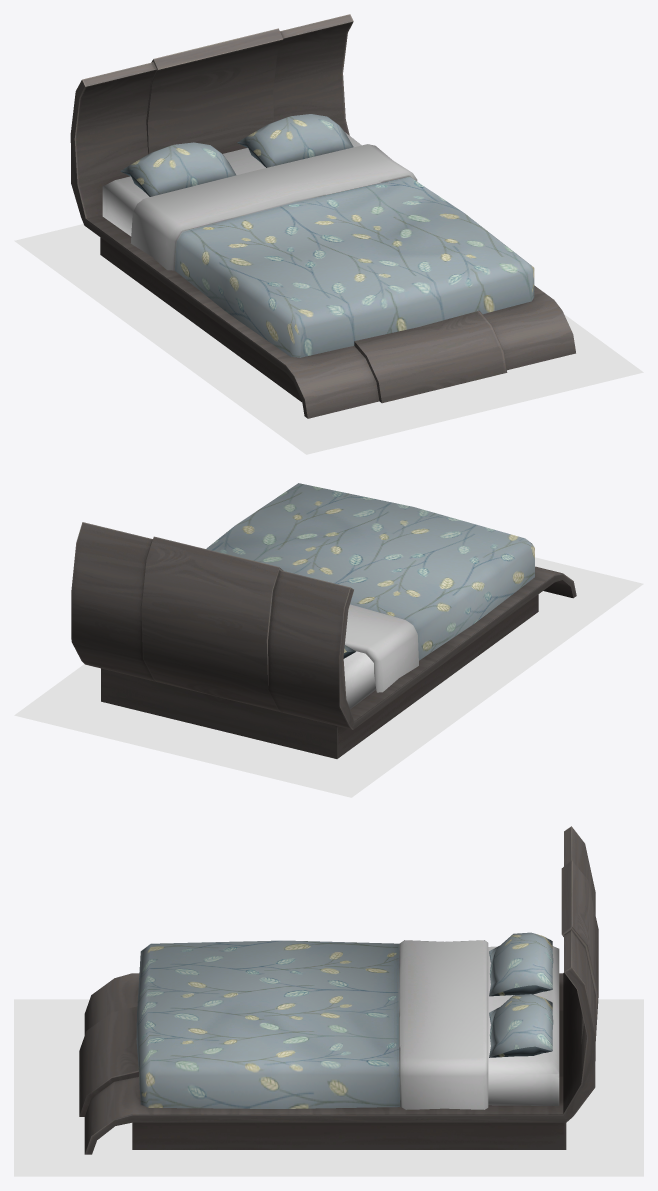
File: jj_ty_chuang07_1.FBX
3 views of the same model, one above another, from view 1: azimuth 30°, elevation 25°; view 2: azimuth 150°, elevation 25°; view 3: azimuth 270°, elevation 25° (orthographic). The views are drawn at different scales.
Visible parts, largest first — view 1: ty_chuang02, shadow; view 2: ty_chuang02, shadow; view 3: ty_chuang02, shadow.
Boxes of the visible parts, x1,y1,x2,y2 form: ty_chuang02: (70, 14, 575, 418); shadow: (14, 224, 643, 454); ty_chuang02: (71, 483, 576, 758); shadow: (14, 557, 643, 797); ty_chuang02: (79, 826, 598, 1154); shadow: (14, 999, 643, 1176).
Bounding box in the file's own units: 78.74 × 41.57 × 118.
2 materials, 1 textured.
